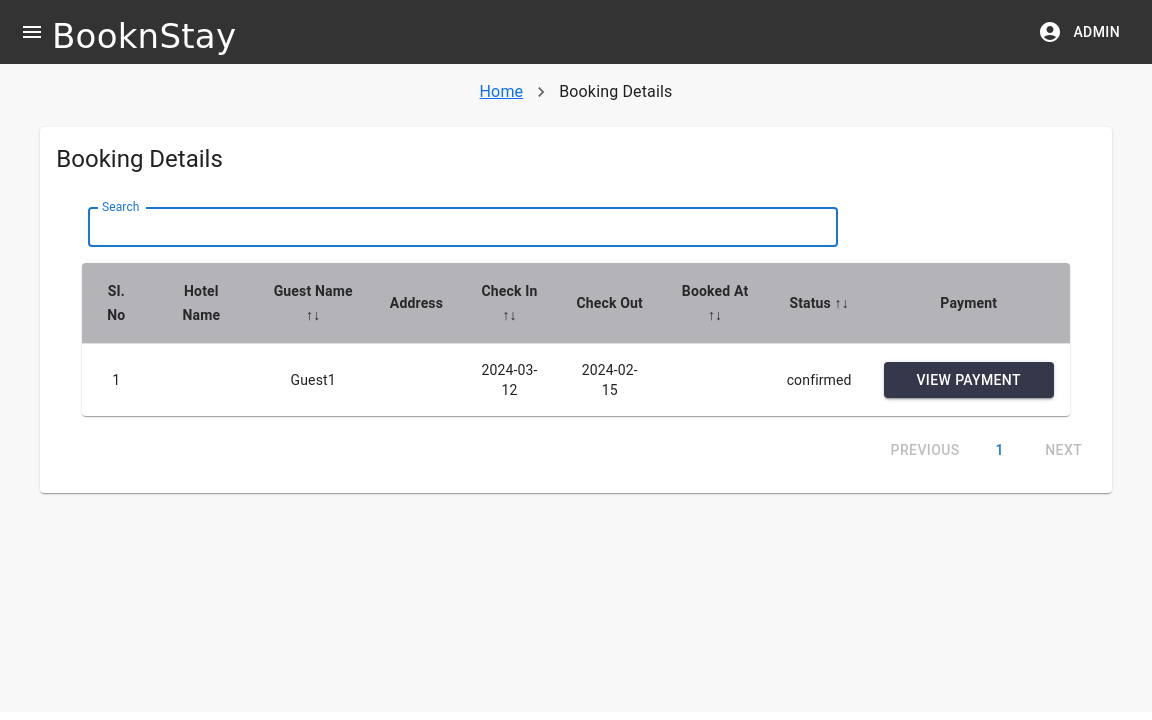
Test: testing list booking components › should fetch booking details successfully
The image size is (1152, 720).
expect the table with test id "table" is shown: met, box x1=82 y1=263 x2=1070 y2=416
Click the button with test id "view-payment" at (969, 380), box x1=884 y1=362 x2=1054 y2=398
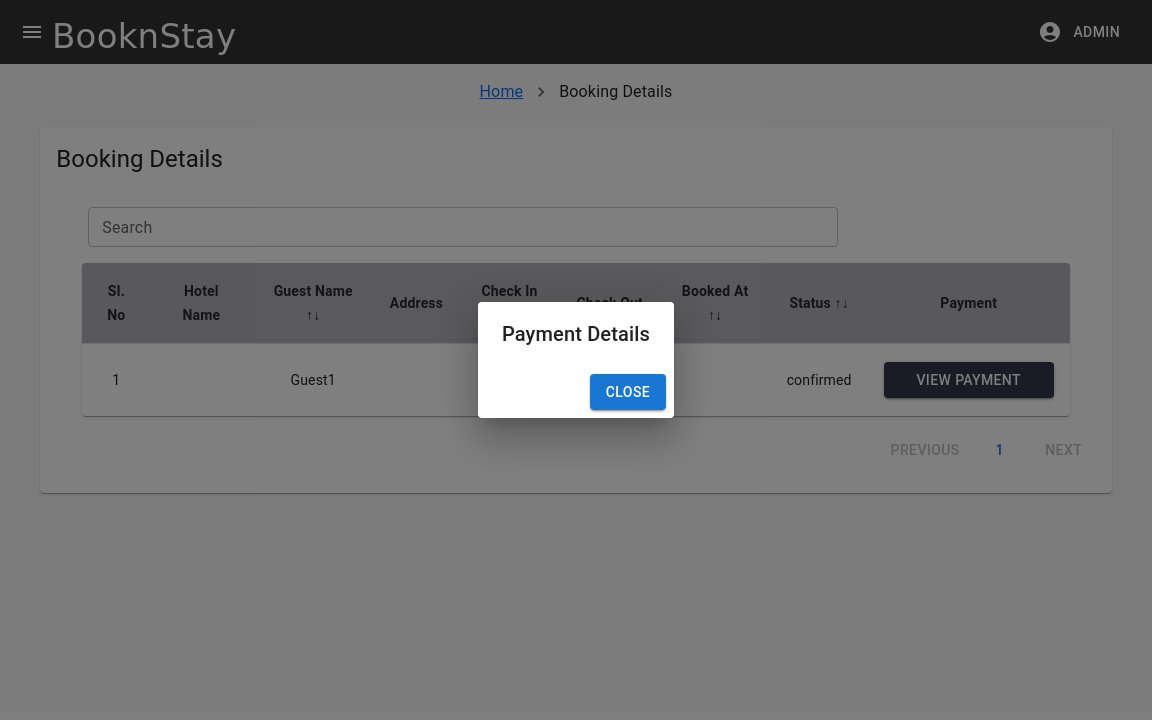
expect the element with test id "dialog" is shown: met
